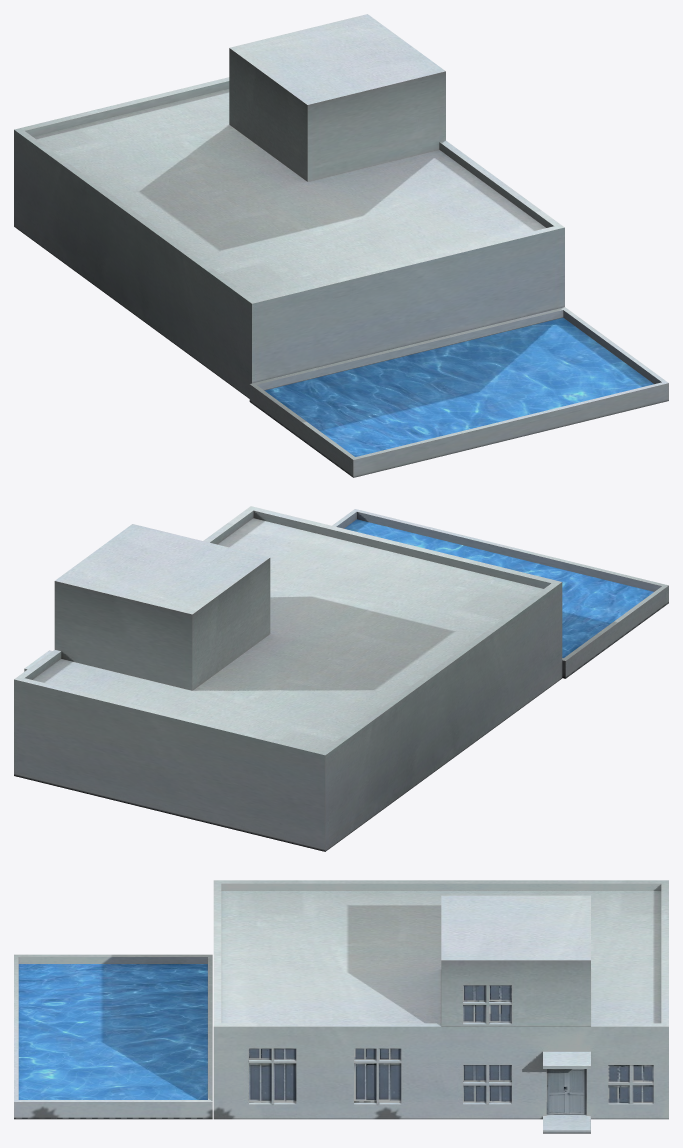
The model's file is build2YNSCYQ.glb.
The picture shows the model from 3 angles, top to bottom: view 1: azimuth 30°, elevation 25°; view 2: azimuth 150°, elevation 25°; view 3: azimuth 270°, elevation 25°; orthographic projection. The views are drawn at different scales.
Parts seen in each view (by area): view 1: build2YNSCYQ; view 2: build2YNSCYQ; view 3: build2YNSCYQ.
Boxes of the visible parts, left/top/right/bottom form: build2YNSCYQ: left=14, top=14, right=668, bottom=477; build2YNSCYQ: left=14, top=506, right=668, bottom=851; build2YNSCYQ: left=14, top=880, right=668, bottom=1133.
Size of the model in its own units: 1780 by 816 by 3050.
Materials: 1 (1 with a texture image).
